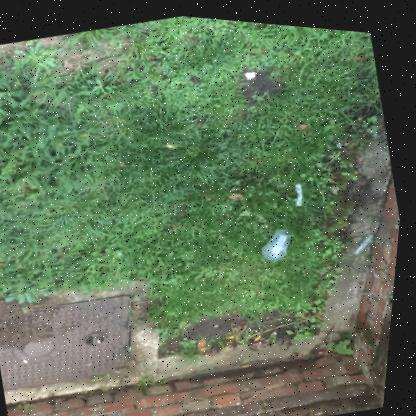Plastic: (266, 224, 297, 251), (266, 245, 289, 255), (298, 178, 306, 200)
Waste: (358, 227, 377, 248), (28, 358, 34, 362)
